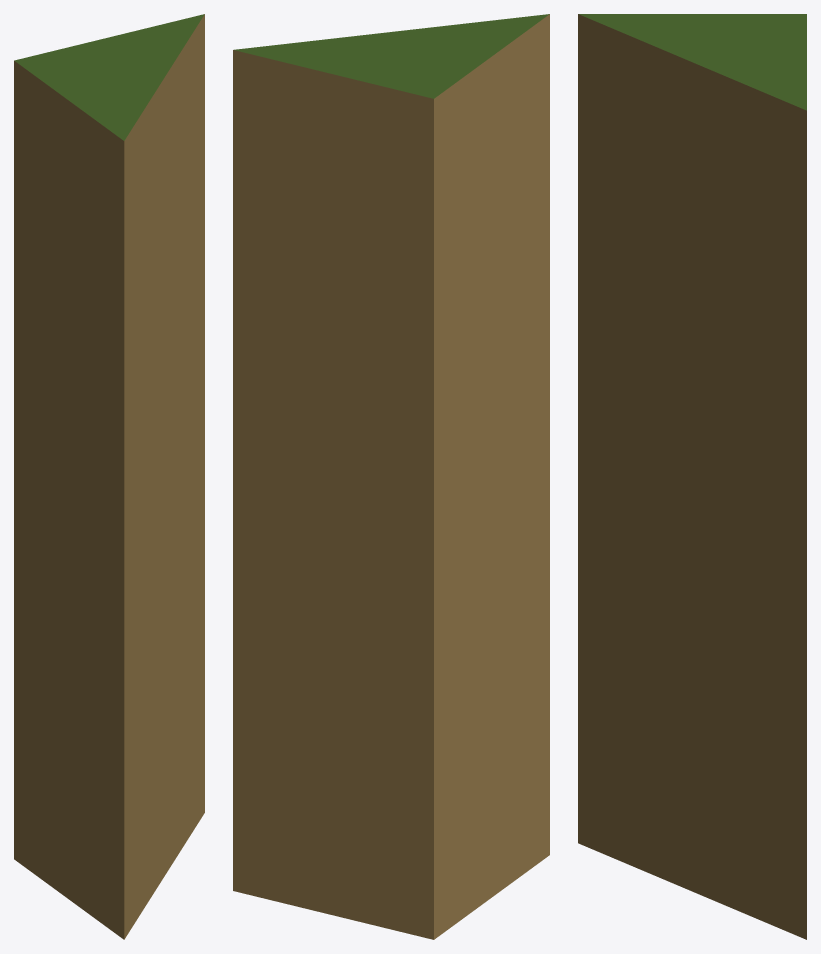
The model's file is Terrain_Tile_Grass_Dirt_Cliff_Face_Straight_Corner_01.fbx.
The picture shows the model from 3 angles, left to right: view 1: azimuth 30°, elevation 25°; view 2: azimuth 150°, elevation 25°; view 3: azimuth 270°, elevation 25°; orthographic projection. The views are drawn at different scales.
Parts seen in each view (by area): view 1: Terrain_Tile_Grass_Dirt_Cliff_Face_Straight_Corner_01; view 2: Terrain_Tile_Grass_Dirt_Cliff_Face_Straight_Corner_01; view 3: Terrain_Tile_Grass_Dirt_Cliff_Face_Straight_Corner_01.
Part boxes in pixels (x1,y1,x2,y2): Terrain_Tile_Grass_Dirt_Cliff_Face_Straight_Corner_01: (14,14,204,939); Terrain_Tile_Grass_Dirt_Cliff_Face_Straight_Corner_01: (233,14,549,939); Terrain_Tile_Grass_Dirt_Cliff_Face_Straight_Corner_01: (578,14,806,939).
Size of the model in its own units: 31.5 by 126 by 31.5.
